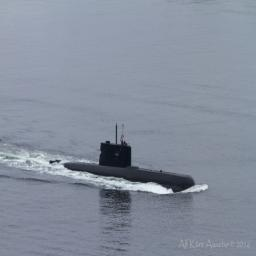submarine: (41, 123, 200, 192)
